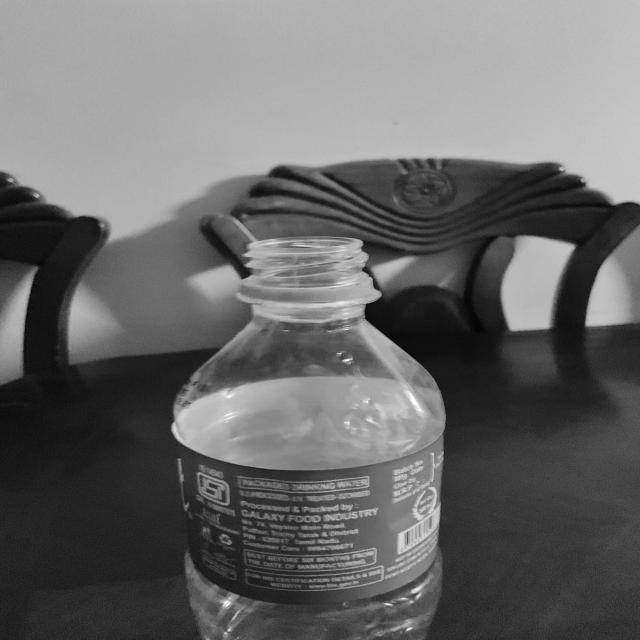open-cap: (241, 232, 378, 301)
